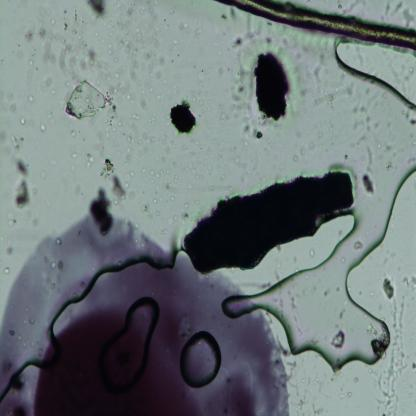Air bubble: (221, 198, 416, 370), (335, 40, 416, 108)
Background material: (375, 296, 408, 402), (254, 51, 288, 121), (65, 80, 105, 119), (170, 103, 199, 137), (384, 0, 416, 30), (97, 186, 114, 227), (366, 326, 390, 352), (119, 32, 138, 64), (81, 51, 109, 71), (14, 178, 32, 209), (111, 174, 126, 202), (40, 45, 58, 66), (88, 0, 106, 20), (382, 275, 396, 300), (233, 79, 244, 109), (330, 330, 347, 349), (362, 175, 375, 198), (14, 158, 30, 176), (230, 33, 246, 51), (101, 157, 116, 176), (275, 291, 285, 318), (313, 55, 324, 79), (105, 92, 117, 114), (245, 16, 255, 42), (402, 273, 416, 290), (60, 45, 67, 79), (86, 151, 96, 171), (288, 290, 298, 310), (351, 136, 365, 149), (10, 134, 20, 152), (6, 212, 17, 227), (125, 1, 136, 16), (41, 76, 52, 91), (105, 114, 115, 130), (289, 381, 299, 396), (367, 144, 372, 173), (252, 128, 264, 140), (298, 394, 307, 410), (45, 111, 55, 125), (219, 104, 226, 124), (312, 402, 322, 416), (26, 27, 36, 41), (68, 56, 79, 68), (353, 239, 364, 250), (240, 122, 251, 133), (180, 21, 190, 33), (364, 115, 371, 132), (38, 27, 46, 41), (344, 87, 353, 99), (78, 36, 87, 48), (316, 93, 325, 104), (146, 50, 155, 61), (160, 130, 166, 146), (148, 112, 156, 124), (328, 96, 335, 109), (140, 96, 146, 111), (124, 172, 129, 190), (404, 69, 412, 80), (182, 212, 190, 223), (172, 83, 180, 94), (194, 23, 201, 35), (275, 269, 282, 281), (323, 287, 332, 296), (138, 6, 147, 15), (160, 228, 170, 236), (124, 154, 132, 164), (164, 180, 172, 190), (130, 69, 136, 82), (265, 35, 271, 48), (310, 138, 316, 151), (339, 308, 346, 319), (386, 163, 394, 172), (45, 196, 51, 208), (297, 326, 303, 338), (359, 105, 367, 114), (142, 204, 151, 212), (158, 57, 166, 66), (7, 90, 13, 102), (113, 85, 122, 93), (160, 168, 170, 175), (192, 168, 199, 178), (74, 186, 81, 196), (31, 48, 38, 58), (144, 79, 150, 90), (384, 144, 392, 152), (183, 164, 191, 172), (127, 95, 134, 104), (407, 157, 416, 164), (27, 94, 34, 103), (308, 248, 314, 258), (39, 123, 45, 133), (126, 134, 133, 142), (71, 151, 78, 159), (132, 113, 139, 121), (70, 130, 77, 138), (346, 392, 354, 399), (200, 169, 205, 180), (410, 118, 416, 127), (229, 9, 235, 18), (41, 170, 47, 179), (0, 234, 5, 244), (63, 22, 68, 32), (220, 14, 227, 21), (6, 248, 14, 254), (354, 121, 360, 129), (166, 115, 170, 127), (374, 121, 380, 129), (292, 154, 298, 162), (174, 176, 180, 184), (20, 117, 26, 125), (128, 192, 134, 200), (142, 130, 147, 139), (117, 120, 123, 127), (204, 107, 211, 113), (70, 164, 76, 171), (313, 378, 319, 385), (338, 393, 345, 399), (242, 140, 248, 147), (300, 89, 306, 96), (0, 133, 6, 140), (180, 145, 187, 151), (50, 18, 55, 26), (147, 212, 152, 220), (74, 8, 77, 21), (405, 110, 409, 119), (236, 156, 240, 165), (369, 290, 375, 296), (378, 141, 382, 150), (172, 161, 178, 167), (156, 73, 161, 80), (105, 132, 110, 139), (156, 94, 161, 101), (129, 119, 134, 126), (10, 105, 15, 112), (29, 60, 34, 67), (174, 215, 179, 222), (167, 216, 172, 223), (366, 88, 370, 96), (219, 68, 223, 76), (116, 20, 120, 28), (142, 166, 146, 174), (383, 258, 388, 264), (335, 286, 340, 292), (61, 38, 67, 43), (32, 220, 38, 225), (300, 149, 305, 155), (236, 71, 242, 76), (356, 291, 362, 296), (106, 75, 111, 81), (94, 32, 99, 38), (72, 29, 77, 35), (153, 198, 158, 204), (411, 364, 416, 370), (3, 270, 10, 274), (412, 140, 416, 147), (173, 38, 177, 45), (354, 107, 358, 114), (152, 136, 156, 143), (341, 257, 345, 264), (294, 257, 298, 264), (263, 176, 267, 183), (108, 49, 112, 56), (210, 185, 214, 192), (344, 155, 349, 160), (338, 230, 343, 235), (150, 171, 155, 176), (114, 74, 119, 79), (391, 253, 396, 258), (114, 58, 119, 63), (149, 88, 154, 93), (189, 217, 194, 222), (329, 126, 334, 131), (127, 148, 132, 153), (131, 171, 135, 177), (122, 132, 126, 138), (201, 68, 205, 74), (170, 10, 174, 16), (171, 196, 175, 202), (318, 133, 322, 139), (63, 8, 67, 14), (171, 144, 177, 148), (163, 78, 167, 84), (20, 136, 24, 142), (96, 80, 100, 86), (50, 90, 56, 94), (411, 337, 414, 344), (166, 23, 170, 28), (156, 173, 160, 178), (108, 43, 112, 48), (353, 378, 358, 382), (156, 211, 160, 216), (348, 288, 353, 292), (139, 140, 144, 144), (200, 101, 204, 106), (82, 136, 86, 141), (101, 39, 105, 44), (17, 43, 21, 48), (146, 139, 150, 144), (186, 204, 190, 209), (162, 156, 166, 161), (190, 138, 195, 142), (202, 206, 206, 211), (383, 92, 386, 98), (194, 96, 197, 102), (112, 134, 115, 140), (142, 90, 145, 96), (35, 65, 38, 71), (302, 377, 305, 383), (137, 28, 140, 34), (167, 148, 170, 154), (226, 67, 230, 71), (122, 66, 126, 70), (196, 200, 200, 204), (159, 198, 163, 202), (222, 176, 226, 180), (156, 156, 159, 161), (268, 139, 271, 144), (230, 186, 233, 191), (340, 372, 342, 378), (112, 25, 115, 29), (12, 50, 15, 54), (164, 17, 166, 22), (194, 65, 196, 70), (150, 150, 152, 155), (78, 130, 81, 133), (170, 60, 173, 63), (116, 200, 118, 204), (136, 188, 138, 192), (82, 192, 84, 196), (64, 17, 66, 20), (152, 180, 154, 183), (228, 48, 230, 50), (113, 4, 115, 6), (116, 2, 118, 4), (82, 20, 83, 24)
Fragment: (184, 168, 355, 277)
Pen: (0, 215, 289, 416)
